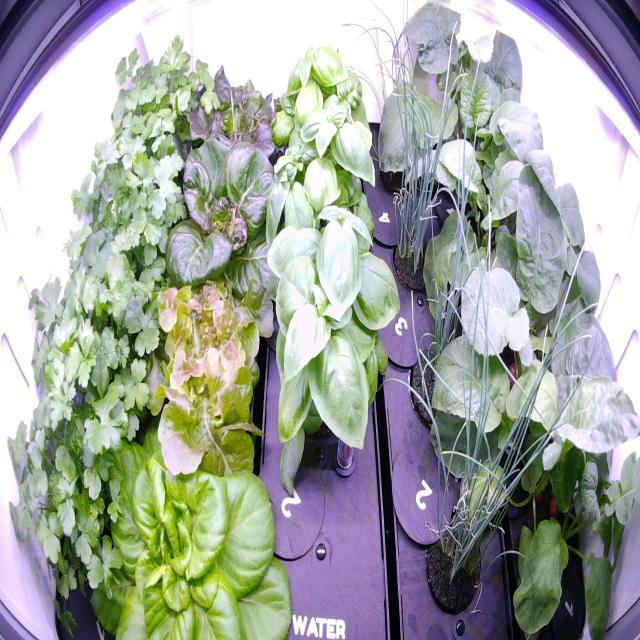young: (75, 382, 300, 640), (138, 122, 293, 346), (166, 56, 288, 172)
